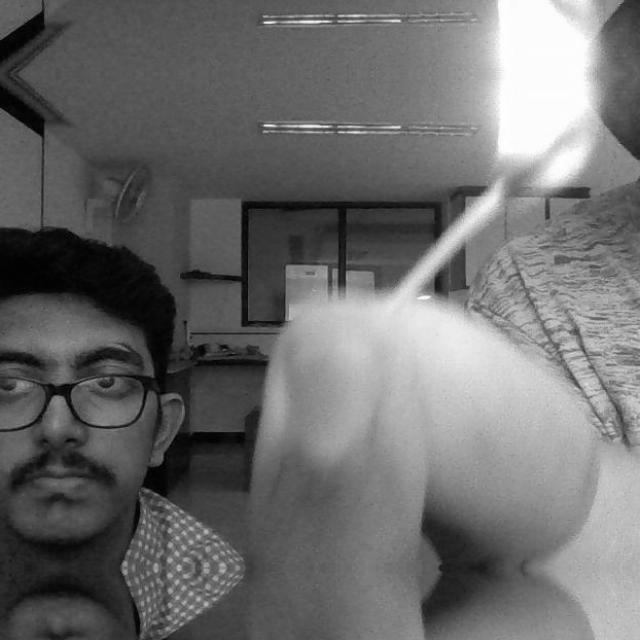smoke: (484, 0, 606, 215)
